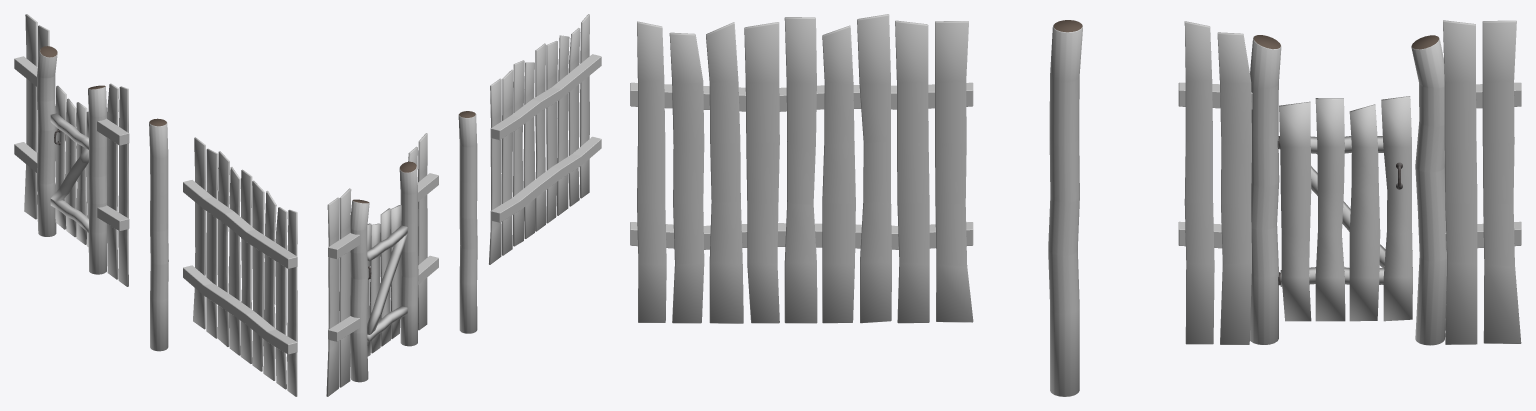
File: OldWoodFance.fbx
3 views of the same model, side by side, from view 1: azimuth 30°, elevation 25°; view 2: azimuth 150°, elevation 25°; view 3: azimuth 270°, elevation 25° (orthographic). The views are drawn at different scales.
Visible parts, largest first — view 1: WoodFance, Cube.004, Cylinder, Cube.027; view 2: WoodFance, Cube.004, Cylinder, Cube.027; view 3: WoodFance, Cube.004, Cylinder, Cube.027.
Part boxes in pixels (x1=…): WoodFance: x1=183, y1=137, x2=297, y2=396; Cube.004: x1=14, y1=14, x2=129, y2=286; Cylinder: x1=50, y1=85, x2=89, y2=246; Cube.027: x1=149, y1=118, x2=168, y2=351; WoodFance: x1=488, y1=14, x2=601, y2=264; Cube.004: x1=326, y1=133, x2=438, y2=396; Cylinder: x1=367, y1=205, x2=407, y2=356; Cube.027: x1=458, y1=111, x2=477, y2=333; WoodFance: x1=630, y1=14, x2=973, y2=323; Cube.004: x1=1178, y1=20, x2=1521, y2=345; Cylinder: x1=1278, y1=96, x2=1412, y2=321; Cube.027: x1=1048, y1=20, x2=1082, y2=396.
Size of the model in its own units: 46.8 by 584 by 1236.
